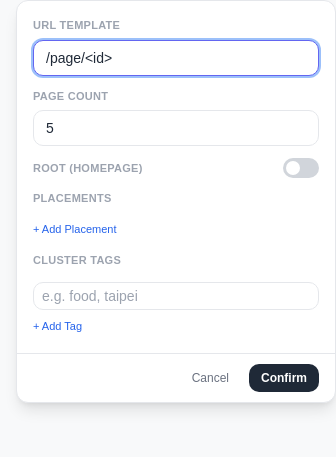
it: EditPopover › adds a new placement when "+ Add Placement" is clicked
The width and height of the screenshot is (336, 457).
What coordinates should you click on to do the following:
click the button "+ Add Placement"
I would click on:
 (75, 229)
Its box is x1=33 y1=220 x2=116 y2=237.
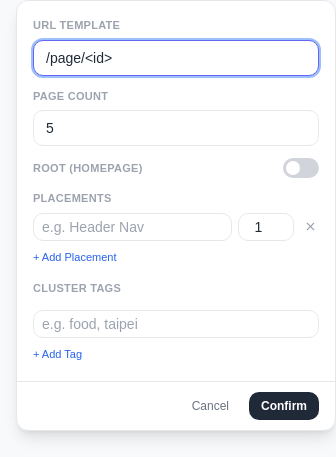
Expected: the number of fields with placeholder "e.g. Header Nav" is 1, x1=33 y1=212 x2=232 y2=240
